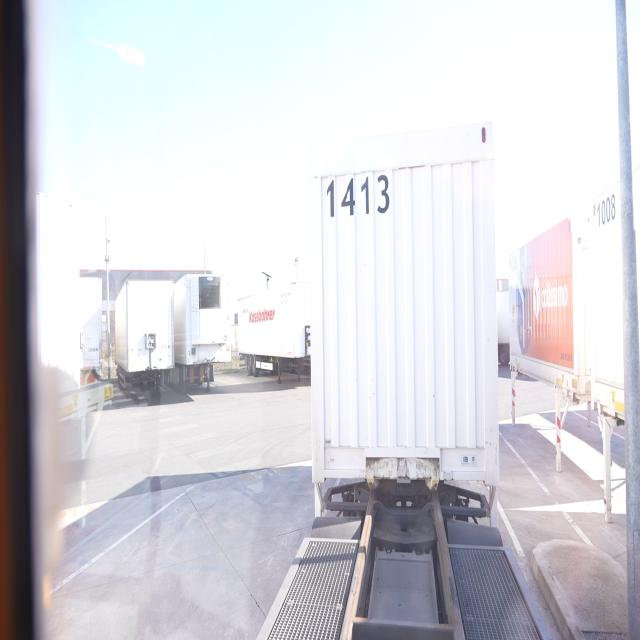Code: (322, 168, 392, 220)
